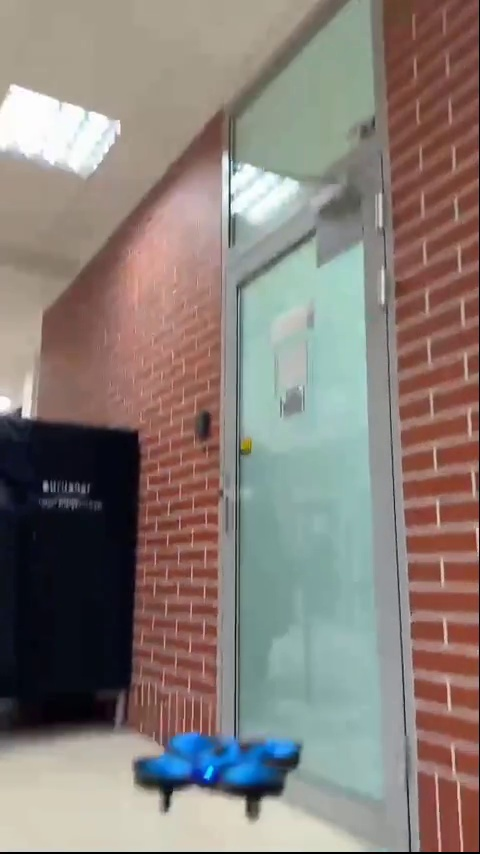drone: (138, 733, 312, 796)
